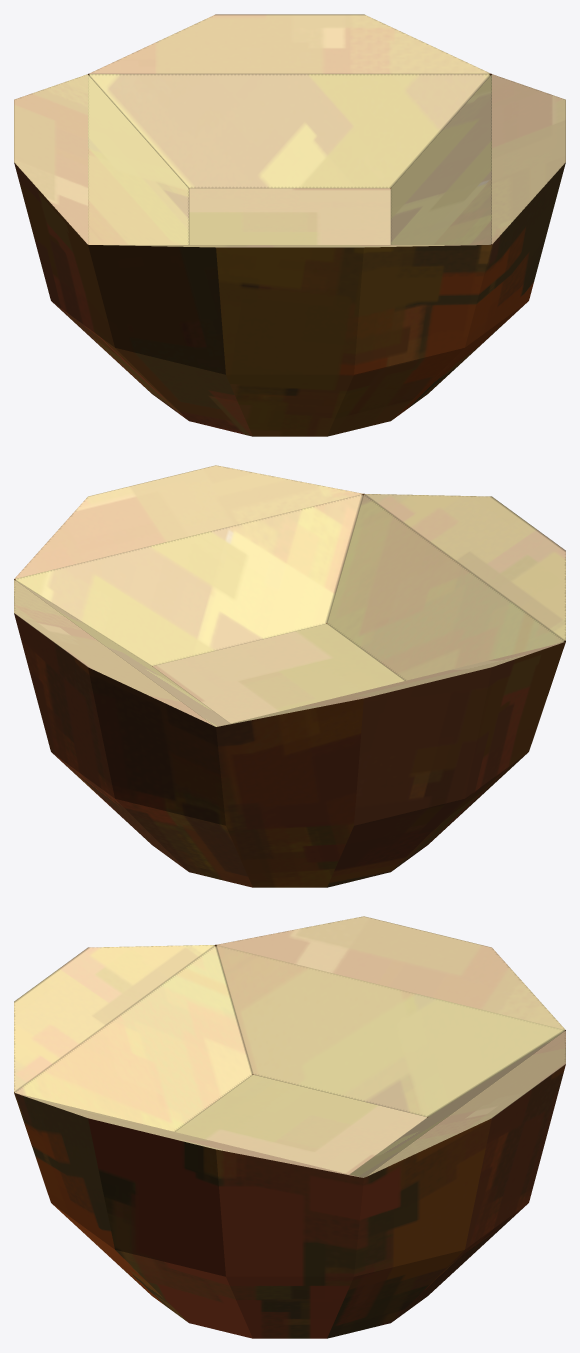
File: NoixDeCocoBriser.fbx
3 views of the same model, one above another, from view 1: azimuth 30°, elevation 25°; view 2: azimuth 150°, elevation 25°; view 3: azimuth 270°, elevation 25° (orthographic).
Parts seen in each view (by area): view 1: sphere; view 2: sphere; view 3: sphere.
Boxes of the visible parts, x1,y1,x2,y2 form: sphere: [14, 14, 565, 436]; sphere: [14, 465, 565, 887]; sphere: [14, 916, 565, 1338].
Bounding box in the file's own units: 87.5 × 51.25 × 87.5.
1 material, 1 textured.
